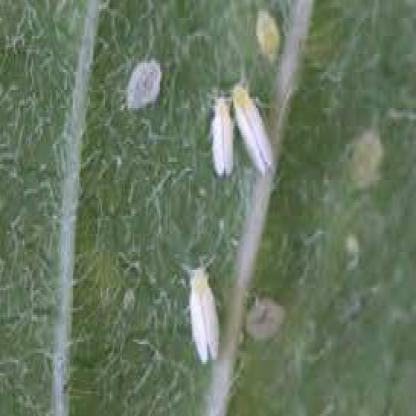whitefly: (234, 86, 274, 176), (210, 101, 236, 178)
